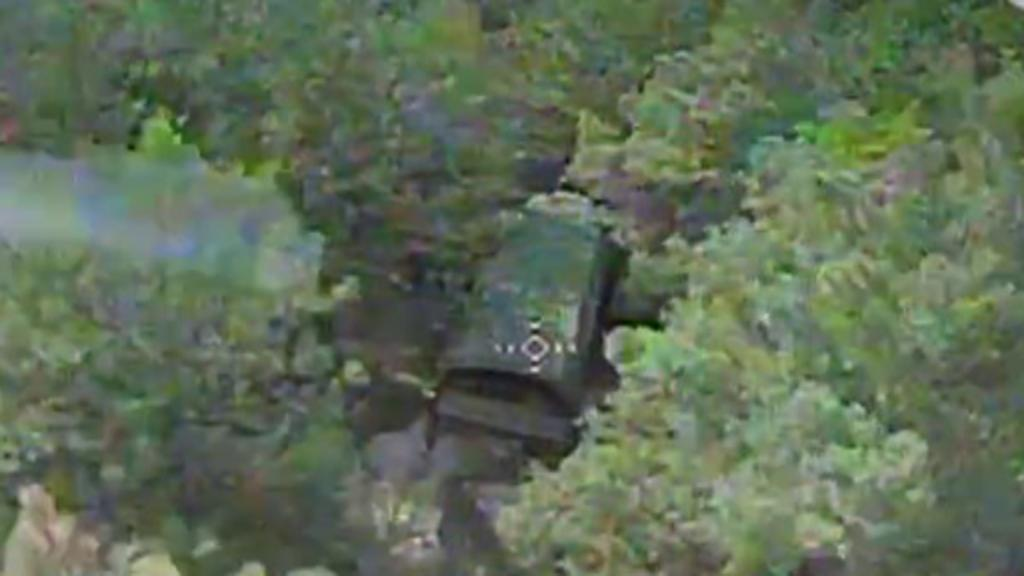TRUCK: (428, 187, 614, 442)
